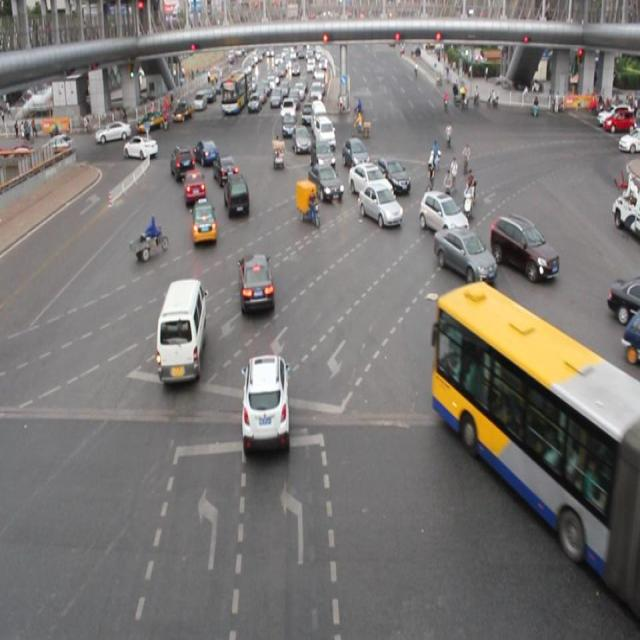car: (241, 356, 289, 458), (489, 214, 558, 278), (434, 225, 496, 282), (418, 190, 467, 235), (238, 254, 274, 312), (358, 182, 401, 227), (348, 161, 391, 198), (607, 275, 640, 319), (308, 161, 341, 202), (374, 157, 408, 193), (224, 174, 249, 219), (191, 200, 216, 244), (170, 144, 196, 182), (340, 137, 369, 169), (122, 133, 156, 160), (183, 168, 205, 207), (212, 154, 236, 186), (310, 140, 334, 171), (195, 138, 218, 167), (291, 123, 311, 154)
truck: (156, 278, 205, 386)
van: (435, 284, 640, 611)
